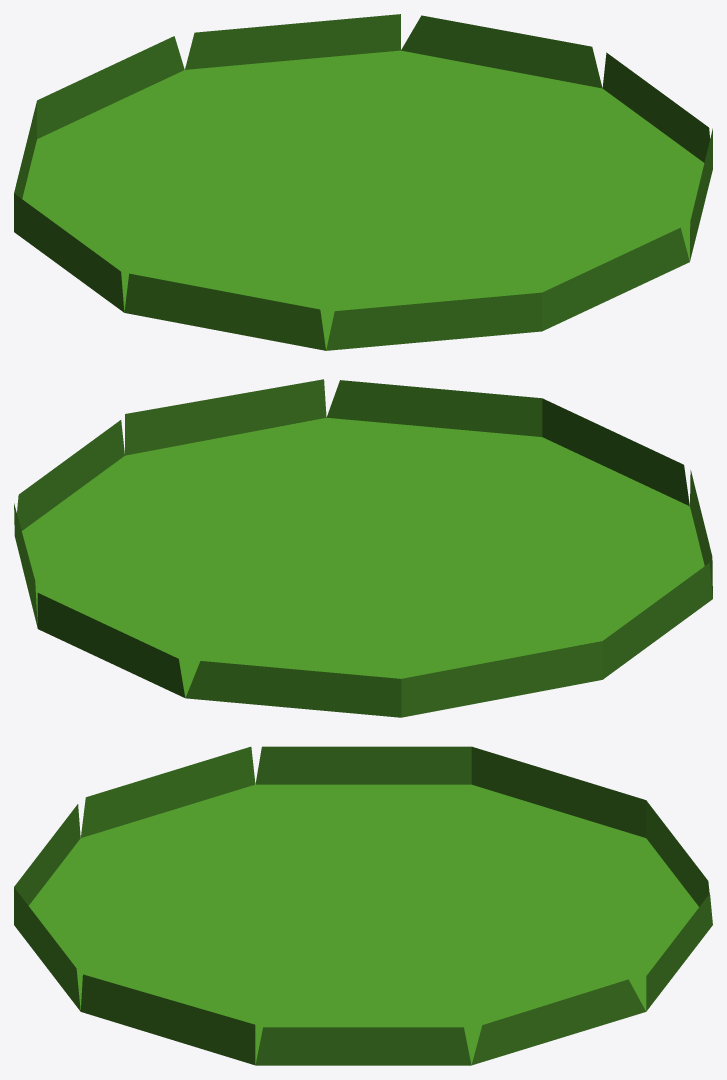
Rendered from waterLilly.fbx.
3 renders of one model, top to bottom at view 1: azimuth 30°, elevation 25°; view 2: azimuth 150°, elevation 25°; view 3: azimuth 270°, elevation 25°, orthographic. The views are drawn at different scales.
Visible parts, largest first — view 1: waterLilly; view 2: waterLilly; view 3: waterLilly.
Boxes of the visible parts, x1=… form: waterLilly: x1=14, y1=14, x2=712, y2=350; waterLilly: x1=14, y1=379, x2=712, y2=717; waterLilly: x1=14, y1=746, x2=712, y2=1065.
Bounding box in the file's own units: 160 × 10.82 × 168.
